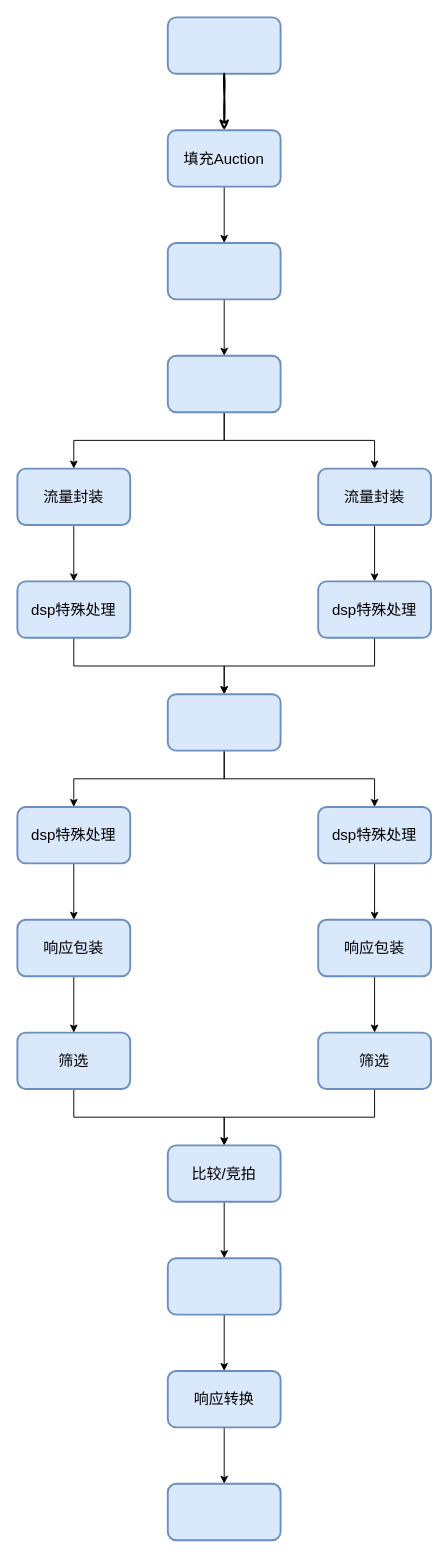
This 447x1557 diagram has some shape labels left out. Each missing label, with the centre of its shape:
"bidlog" goes at (x=223, y=1511).
"seat" goes at (x=223, y=383).
"包装" goes at (x=223, y=1286).
"流量分发" goes at (x=223, y=722).
"流量筛选" goes at (x=223, y=271).
"请求转换" goes at (x=223, y=45).
